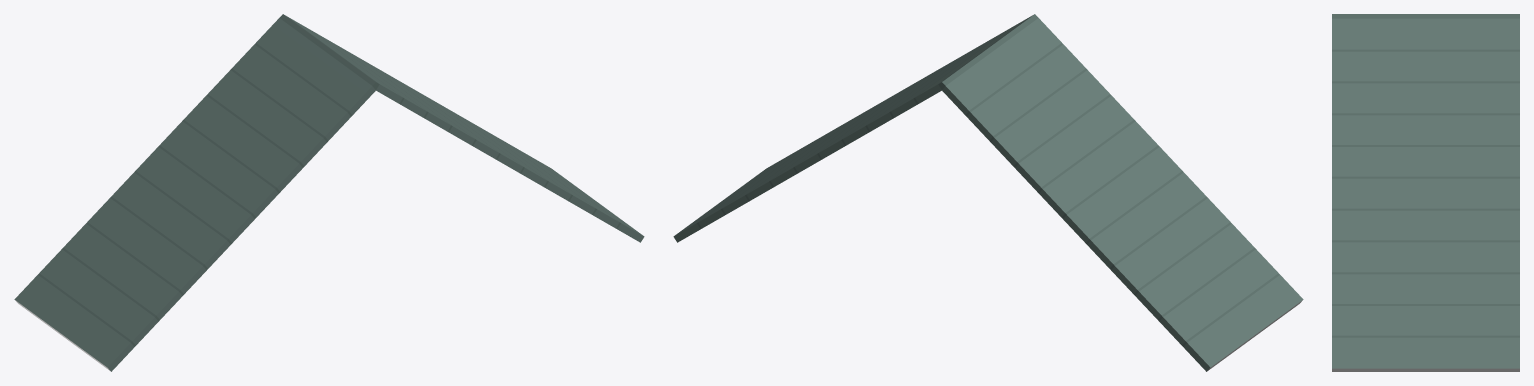
Rendered from Roof2_C6_01.fbx.
3 views of the same model, side by side, from view 1: azimuth 30°, elevation 25°; view 2: azimuth 150°, elevation 25°; view 3: azimuth 270°, elevation 25° (orthographic).
Parts seen in each view (by area): view 1: Roof2_C6_01; view 2: Roof2_C6_01; view 3: Roof2_C6_01.
Part boxes in pixels (x1,y1,x2,y2): Roof2_C6_01: (14,14,644,371); Roof2_C6_01: (673,14,1303,371); Roof2_C6_01: (1332,14,1519,371).
Bounding box in the file's own units: 833 × 334 × 250.
